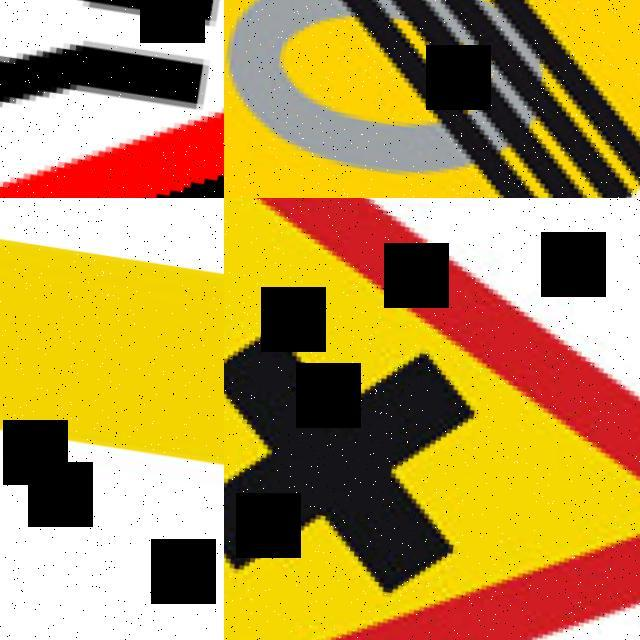4: (0, 212, 224, 499)
Crossroad intersection: (224, 198, 640, 640)
Narrow road: (0, 0, 224, 198)
end of the speed limit: (224, 0, 640, 198)
